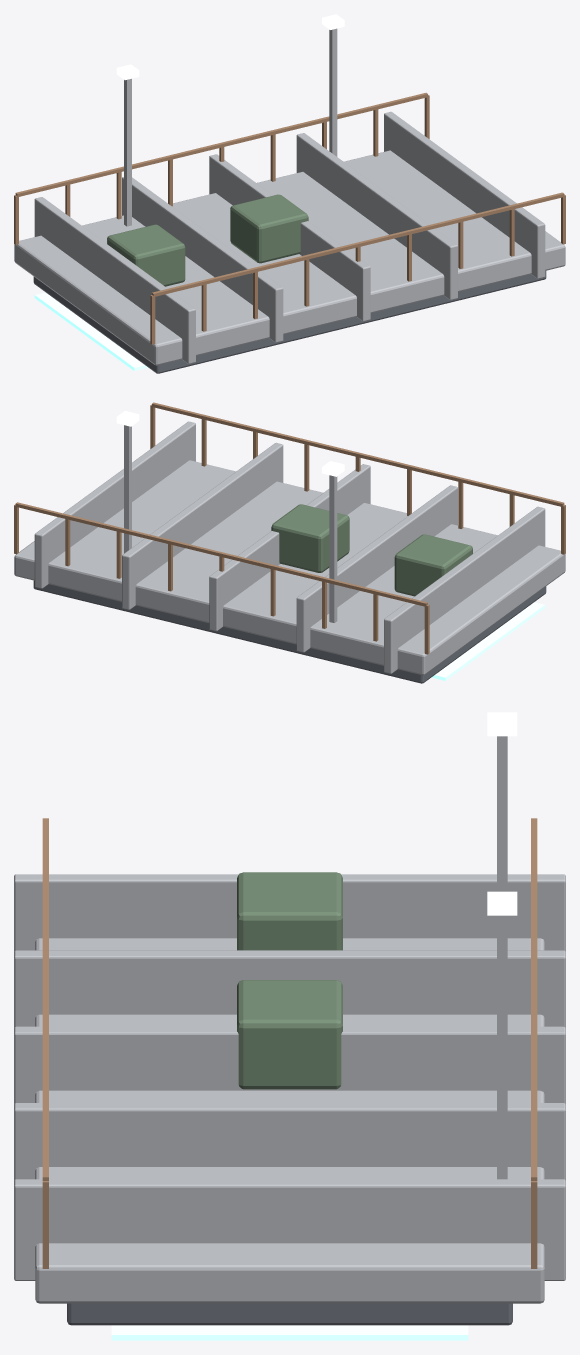
The model's file is bridgew_4.glb.
3 renders of one model, top to bottom at view 1: azimuth 30°, elevation 25°; view 2: azimuth 150°, elevation 25°; view 3: azimuth 270°, elevation 25°, orthographic. The views are drawn at different scales.
Parts seen in each view (by area): view 1: ext_bridge_floor, ext_bridge_ribs, ext_bridge_rail, ext_bridge_plants, ext_bridge_under, ext_bridge_glow, ext_lamp0, ext_lamp1; view 2: ext_bridge_floor, ext_bridge_ribs, ext_bridge_rail, ext_bridge_plants, ext_bridge_under, ext_bridge_glow, ext_lamp0, ext_lamp1; view 3: ext_bridge_ribs, ext_bridge_floor, ext_bridge_plants, ext_bridge_under, ext_bridge_rail, ext_bridge_glow, ext_lamp1, ext_lamp0, ext_lamp_glow0, ext_lamp_glow1.
Part boxes in pixels (x1,y1,x2,y2): ext_bridge_floor: (14,150,565,365); ext_bridge_ribs: (34,111,545,363); ext_bridge_rail: (14,92,565,344); ext_bridge_plants: (107,194,308,286); ext_bridge_under: (33,271,546,373); ext_bridge_glow: (34,292,148,370); ext_lamp0: (124,78,131,226); ext_lamp1: (329,28,337,156); ext_bridge_floor: (14,460,565,675); ext_bridge_ribs: (34,421,545,673); ext_bridge_rail: (14,402,565,654); ext_bridge_plants: (271,504,472,596); ext_bridge_under: (33,580,546,683); ext_bridge_glow: (431,602,545,680); ext_lamp0: (329,475,337,622); ext_lamp1: (124,425,131,553); ext_bridge_ribs: (14,874,565,1280); ext_bridge_floor: (35,938,544,1303); ext_bridge_plants: (237,872,342,1089); ext_bridge_under: (67,1303,512,1325); ext_bridge_rail: (42,818,537,1268); ext_bridge_glow: (111,1325,468,1340); ext_lamp1: (497,915,507,1179); ext_lamp0: (497,736,507,891); ext_lamp_glow0: (487,712,517,736); ext_lamp_glow1: (487,891,517,915).
Size of the model in its own units: 4.03 by 1.83 by 2.6.
